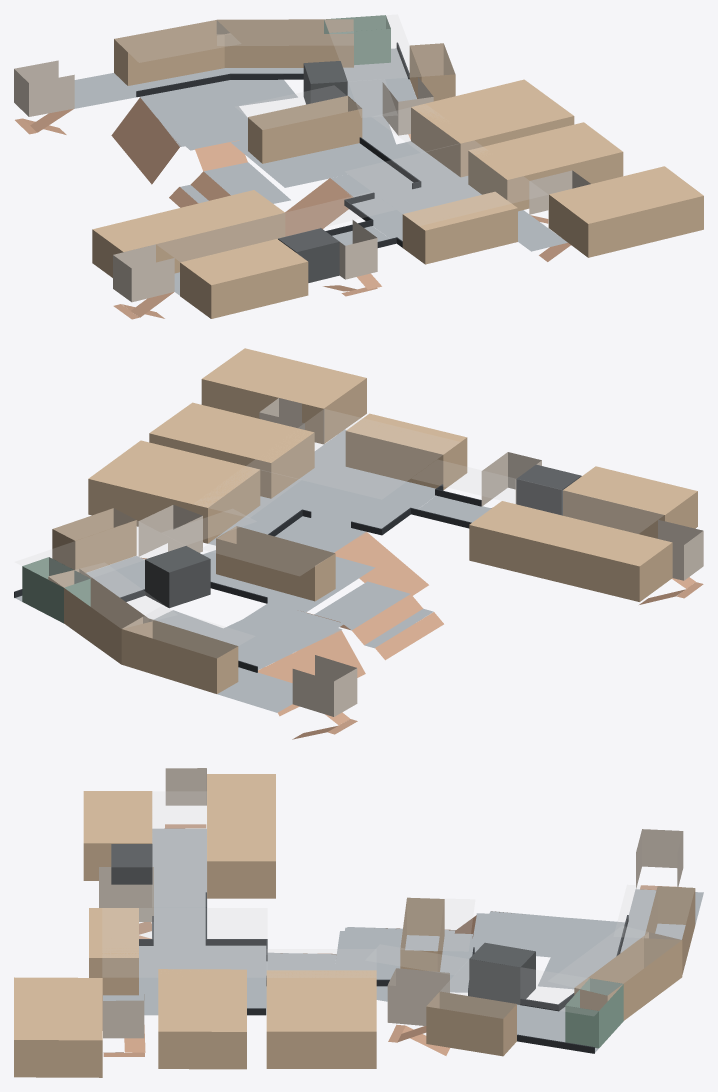
3 renders of one model, top to bottom at view 1: azimuth 30°, elevation 25°; view 2: azimuth 150°, elevation 25°; view 3: azimuth 270°, elevation 25°, orthographic. The views are drawn at different scales.
Parts seen in each view (by area): view 1: 立方體.007, 立方體.169, 立方體.144, 立方體.150, 立方體.113, 立方體.009, 立方體.073, 立方體.030, 立方體.171, 立方體.087, 立方體.145, 立方體.044 (+37 smaller); view 2: 立方體.144, 立方體.169, 立方體.007, 立方體.150, 立方體.087, 立方體.093, 立方體.009, 立方體.073, 立方體.030, 立方體.171, 立方體.086, 立方體.145 (+33 smaller); view 3: 立方體.144, 立方體.169, 立方體.007, 立方體.150, 立方體.090, 立方體.171, 立方體.145, 立方體.086, 立方體.093, Cube.003, 立方體.008, 立方體.164 (+27 smaller).
Boxes of the visible parts, x1,y1,x2,y2 form: 立方體.007: [549, 166, 703, 257]; 立方體.169: [346, 141, 547, 225]; 立方體.144: [411, 79, 574, 177]; 立方體.150: [468, 122, 623, 211]; 立方體.113: [216, 19, 353, 67]; 立方體.009: [402, 191, 517, 264]; 立方體.073: [248, 95, 362, 163]; 立方體.030: [114, 20, 230, 85]; 立方體.171: [157, 192, 395, 261]; 立方體.087: [92, 208, 209, 277]; 立方體.145: [325, 15, 420, 80]; 立方體.044: [180, 249, 265, 318]; 立方體.144: [88, 440, 260, 543]; 立方體.169: [247, 409, 459, 498]; 立方體.007: [201, 348, 366, 444]; 立方體.150: [149, 402, 314, 498]; 立方體.087: [548, 520, 672, 601]; 立方體.093: [260, 444, 435, 528]; 立方體.009: [345, 413, 467, 490]; 立方體.073: [216, 526, 335, 601]; 立方體.030: [121, 617, 238, 693]; 立方體.171: [412, 460, 663, 533]; 立方體.086: [469, 501, 580, 579]; 立方體.145: [15, 520, 184, 586]; 立方體.144: [266, 970, 376, 1068]; 立方體.169: [103, 908, 266, 976]; 立方體.007: [14, 977, 102, 1077]; 立方體.150: [158, 969, 246, 1069]; 立方體.090: [152, 828, 207, 945]; 立方體.171: [152, 792, 206, 906]; 立方體.145: [441, 959, 621, 1015]; 立方體.086: [207, 820, 275, 898]; 立方體.093: [103, 945, 267, 1015]; Cube.003: [334, 931, 472, 992]; 立方體.008: [426, 991, 516, 1056]; 立方體.164: [549, 926, 680, 994].
Size of the model in its own units: 46.77 by 6.04 by 50.09.
